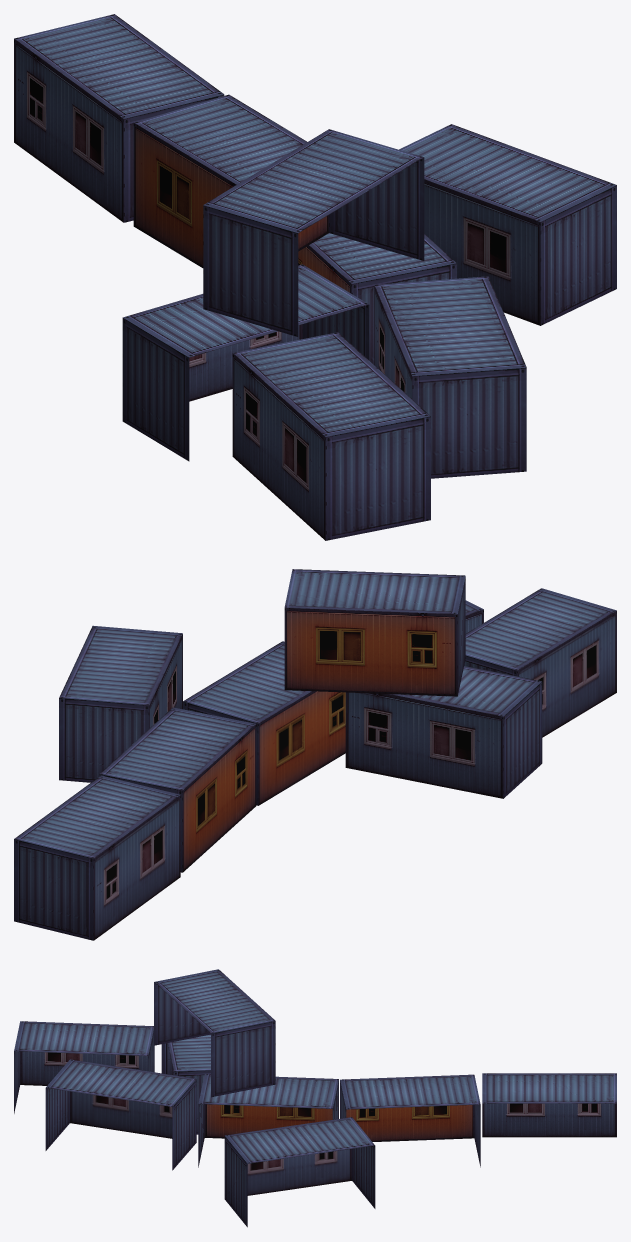
The model's file is S2_CourtBigBox.FBX.
The picture shows the model from 3 angles, top to bottom: view 1: azimuth 30°, elevation 25°; view 2: azimuth 150°, elevation 25°; view 3: azimuth 270°, elevation 25°; orthographic projection. The views are drawn at different scales.
Visible parts, largest first — view 1: S2_CourtBigBox; view 2: S2_CourtBigBox; view 3: S2_CourtBigBox.
Boxes of the visible parts, left/top/right/bottom form: S2_CourtBigBox: left=14, top=14, right=616, bottom=540; S2_CourtBigBox: left=14, top=569, right=616, bottom=940; S2_CourtBigBox: left=14, top=969, right=616, bottom=1227.
Size of the model in its own units: 2434 by 4089 by 955.
